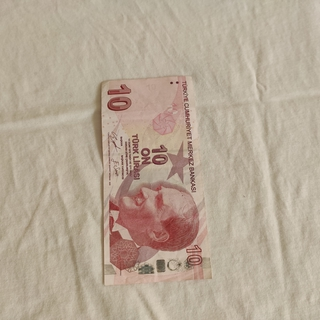10TLFront: (99, 75, 214, 287)
